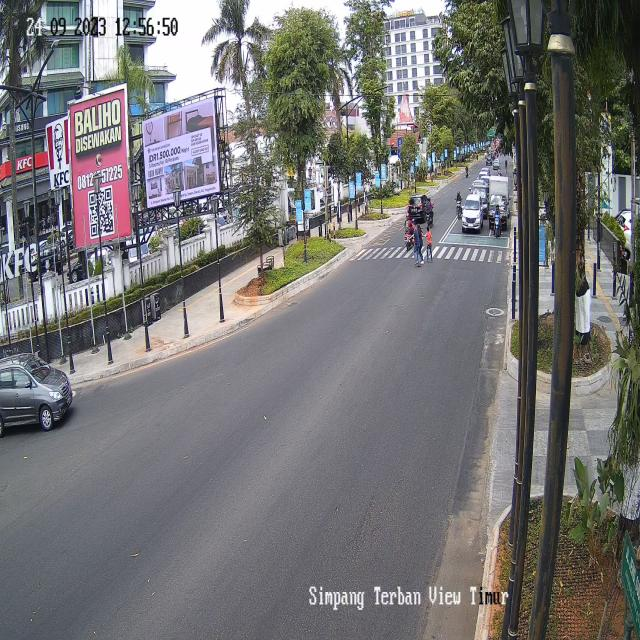car: (0, 352, 73, 432), (462, 193, 484, 233), (407, 194, 433, 224)
motorcycle: (404, 213, 418, 252), (425, 197, 434, 229), (494, 203, 501, 239), (455, 190, 462, 221)
truck: (489, 175, 508, 231)
